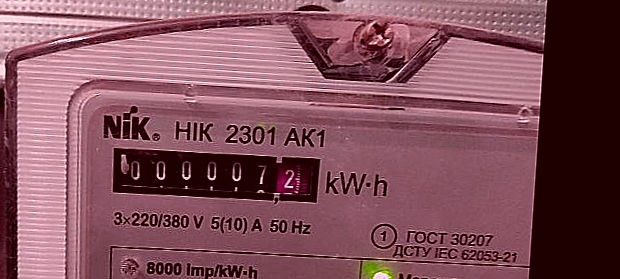0: (128, 159, 144, 184), (205, 161, 221, 185), (180, 160, 195, 184), (230, 162, 245, 185), (154, 161, 169, 183)
2: (283, 169, 297, 193)
7: (256, 163, 270, 188)
screen: (101, 136, 332, 217)
